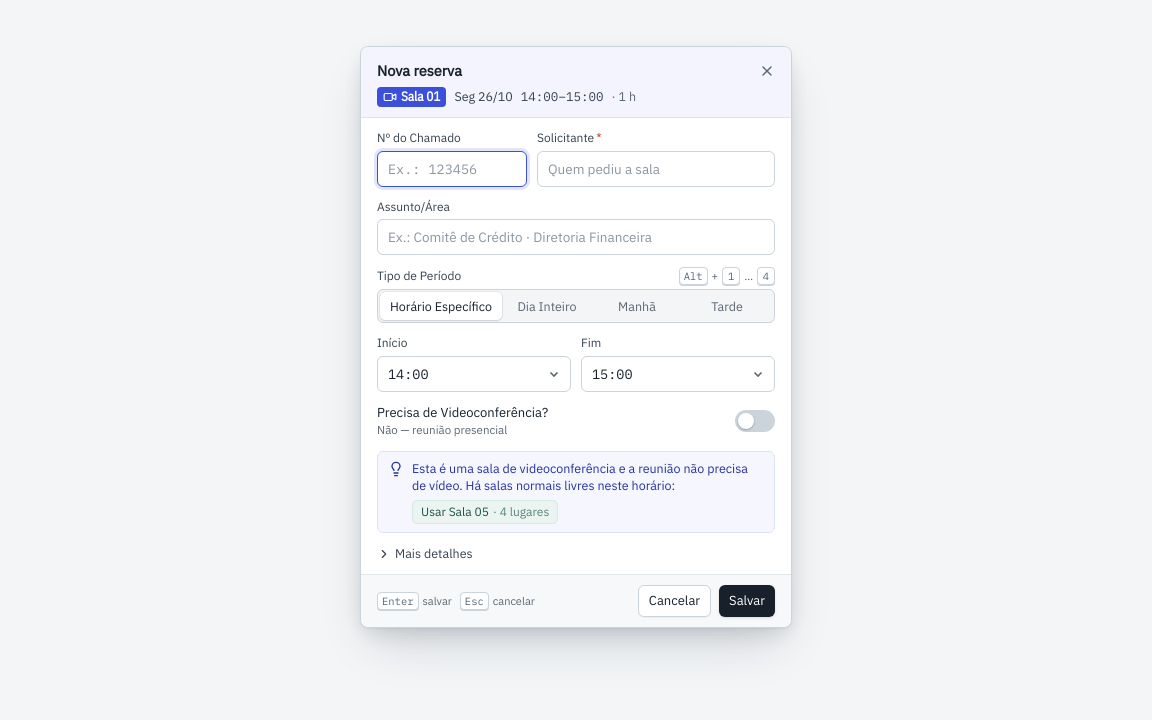
BookingComposer (modal rápido) › RF06 some quando a reunião precisa de vídeo
This screenshot has width=1152, height=720.
Check: the button "Usar Sala 05 · 4 lugares" is shown, box [412, 500, 558, 524]
Click the switch named "Precisa de Videoconferência": point(755, 421) [735, 410, 775, 432]
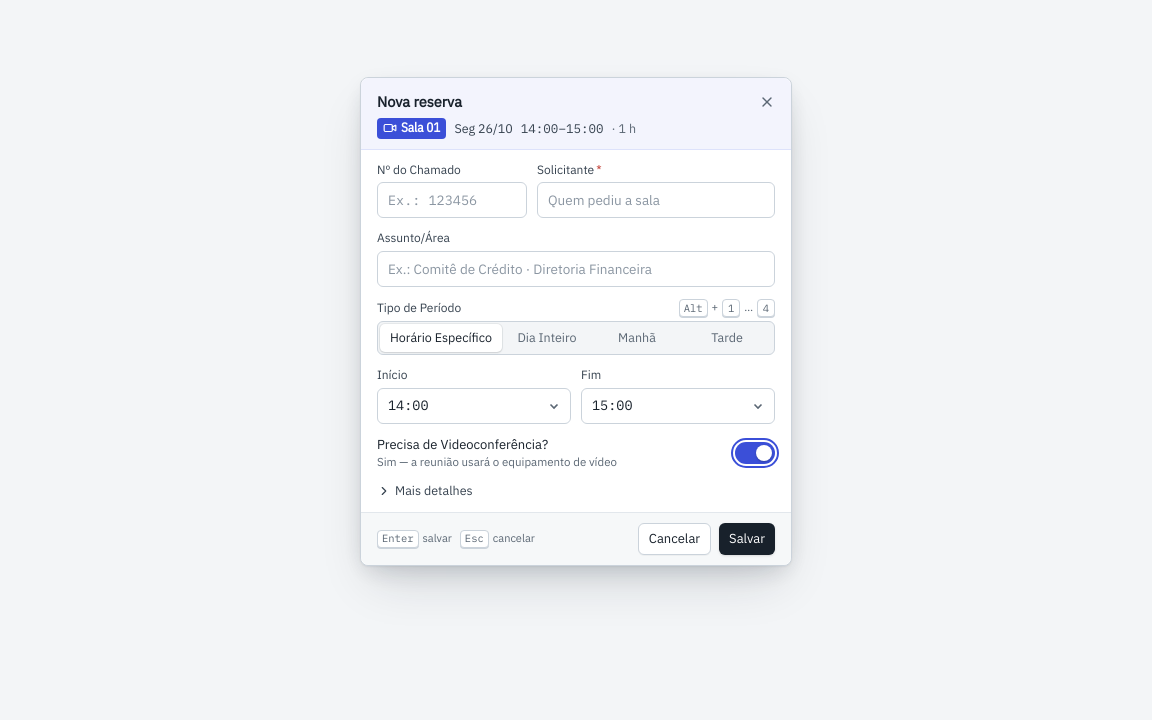
Check: the button "Usar Sala 05" is gone
